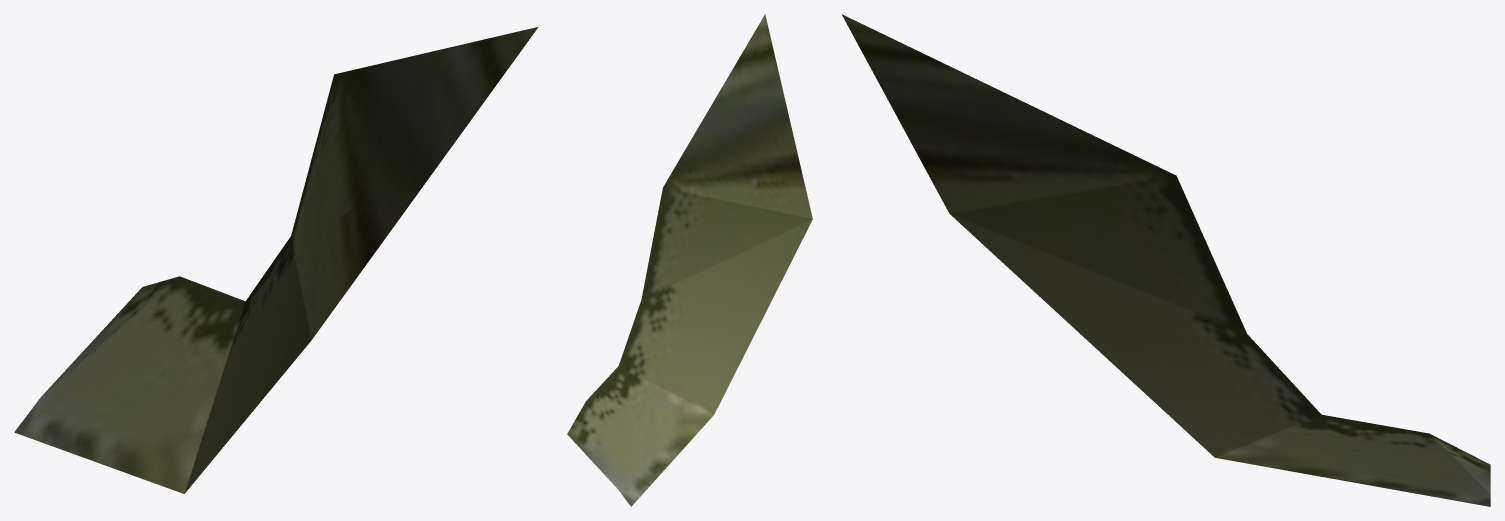
3 views of the same model, side by side, from view 1: azimuth 30°, elevation 25°; view 2: azimuth 150°, elevation 25°; view 3: azimuth 270°, elevation 25° (orthographic). The views are drawn at different scales.
Bounding box in the file's own units: 0.2458 × 0.9678 × 1.05.
1 material, 1 textured.
